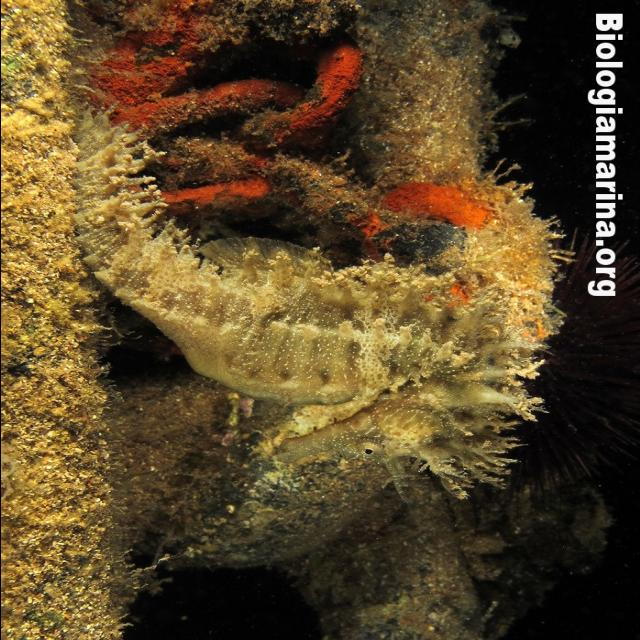Guttu: (265, 388, 502, 473)
